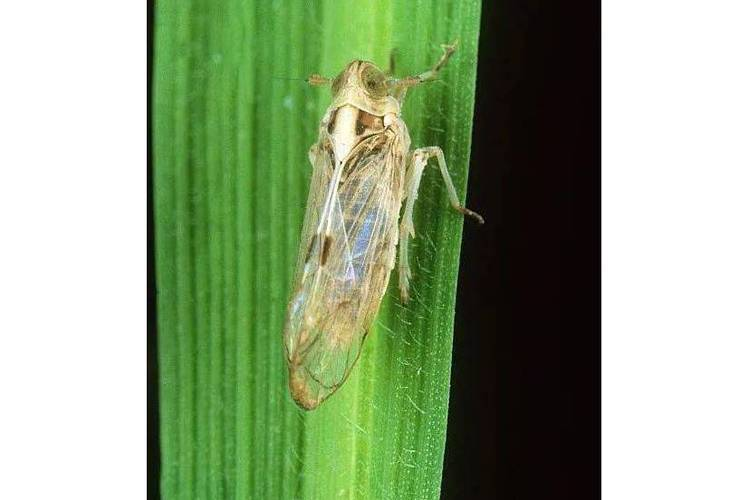Delphacidae: (280, 44, 485, 413)
